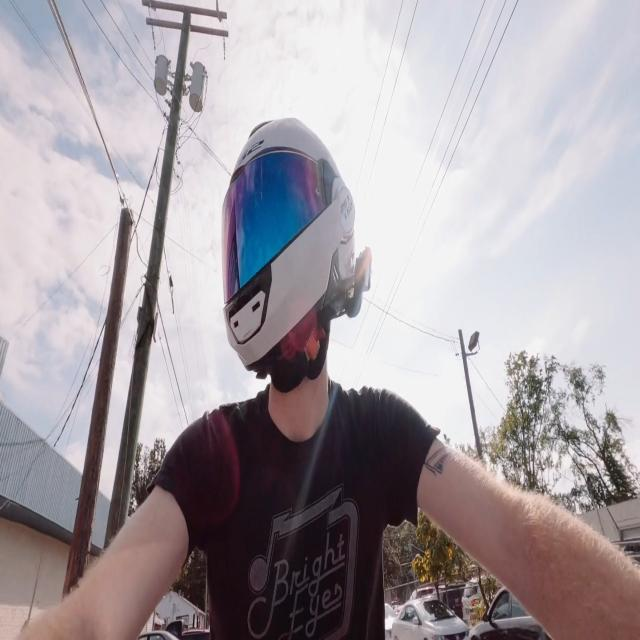Helmet_Wearer: (211, 112, 370, 430)
Person: (42, 108, 582, 640)
